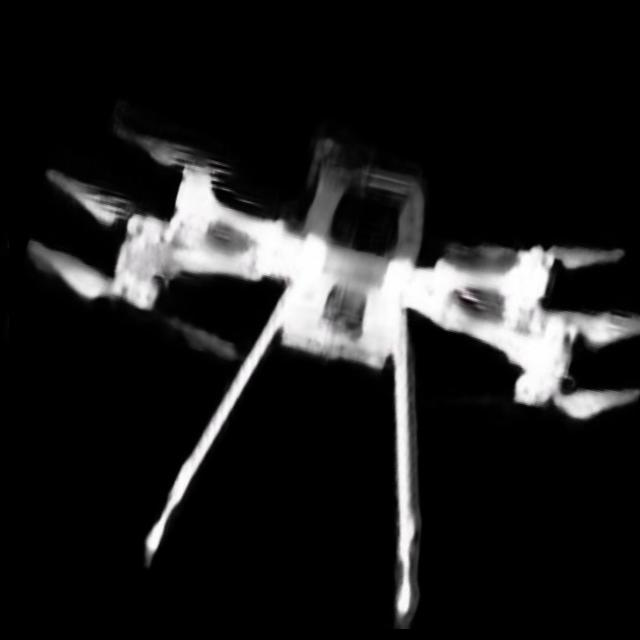drone: (9, 79, 640, 629)
